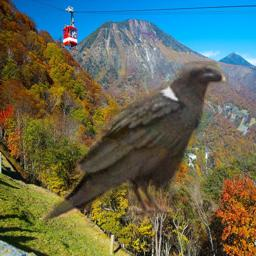Crow: (39, 61, 229, 229)
